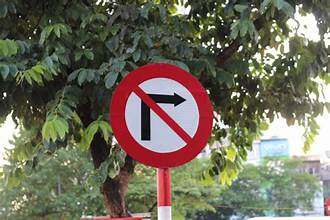No_turn_right: (109, 62, 215, 169)
